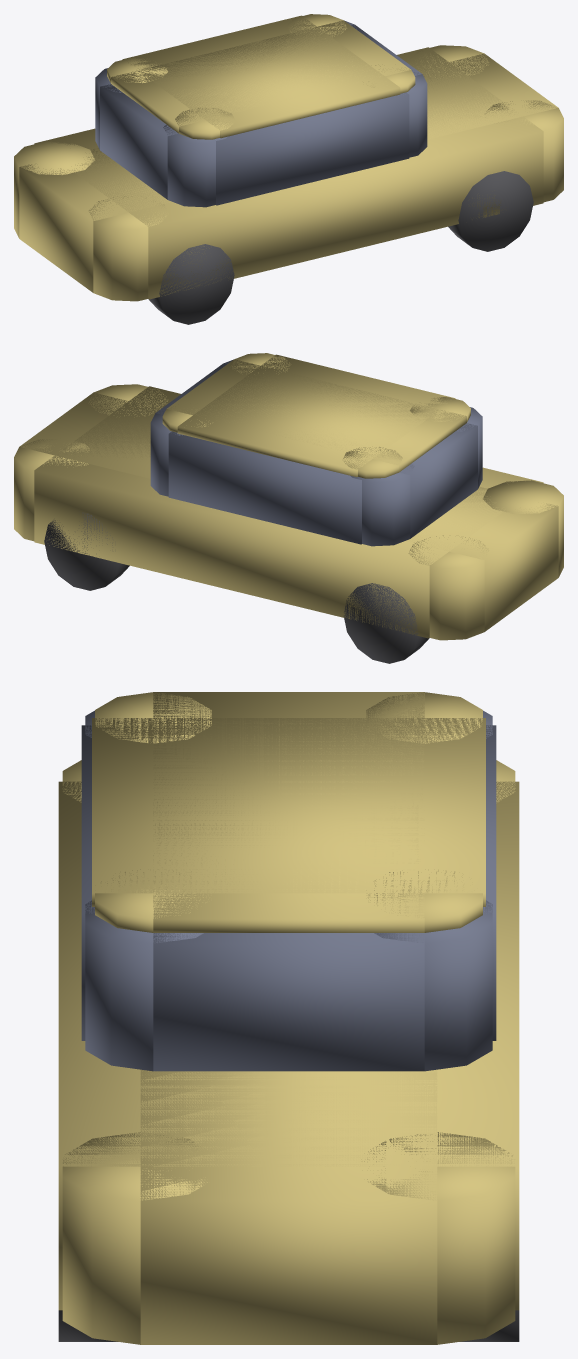
Rendered from car_yellow.glb.
3 views of the same model, one above another, from view 1: azimuth 30°, elevation 25°; view 2: azimuth 150°, elevation 25°; view 3: azimuth 270°, elevation 25° (orthographic). The views are drawn at different scales.
Visible parts, largest first — view 1: car_yellow_4, car_yellow_6, car_yellow_5, car_yellow_3, car_yellow_1; view 2: car_yellow_4, car_yellow_6, car_yellow_5, car_yellow_2, car_yellow_0; view 3: car_yellow_4, car_yellow_6, car_yellow_5.
Boxes of the visible parts, x1=… form: car_yellow_4: x1=14, y1=45, x2=563, y2=301; car_yellow_6: x1=107, y1=14, x2=415, y2=139; car_yellow_5: x1=95, y1=20, x2=427, y2=207; car_yellow_3: x1=148, y1=244, x2=234, y2=324; car_yellow_1: x1=448, y1=171, x2=533, y2=251; car_yellow_4: x1=14, y1=384, x2=563, y2=640; car_yellow_6: x1=162, y1=353, x2=470, y2=478; car_yellow_5: x1=150, y1=359, x2=482, y2=546; car_yellow_2: x1=343, y1=583, x2=429, y2=663; car_yellow_0: x1=44, y1=512, x2=129, y2=590; car_yellow_4: x1=58, y1=760, x2=519, y2=1344; car_yellow_6: x1=92, y1=692, x2=485, y2=932; car_yellow_5: x1=81, y1=710, x2=496, y2=1071.
Size of the model in its own units: 4.2 by 1.53 by 1.8.
